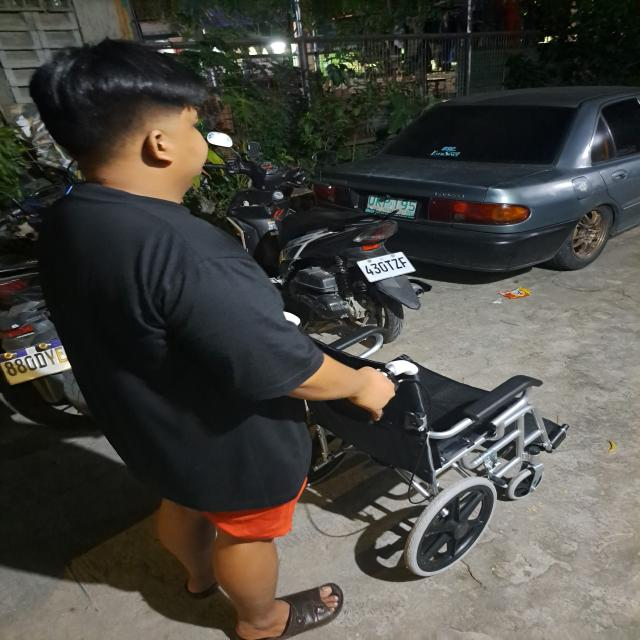wheelchairs: (272, 309, 578, 591)
